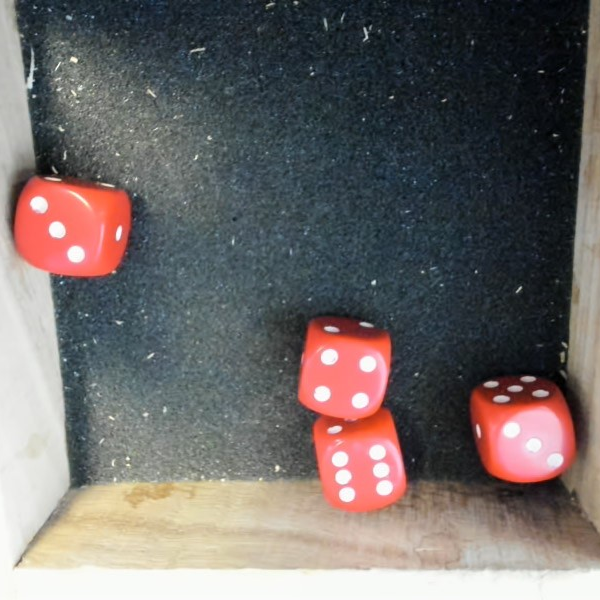red_die_pip3: (462, 365, 576, 487), (14, 169, 133, 280)
red_die_pip4: (293, 308, 397, 422)
red_die_pip6: (307, 392, 417, 521)
